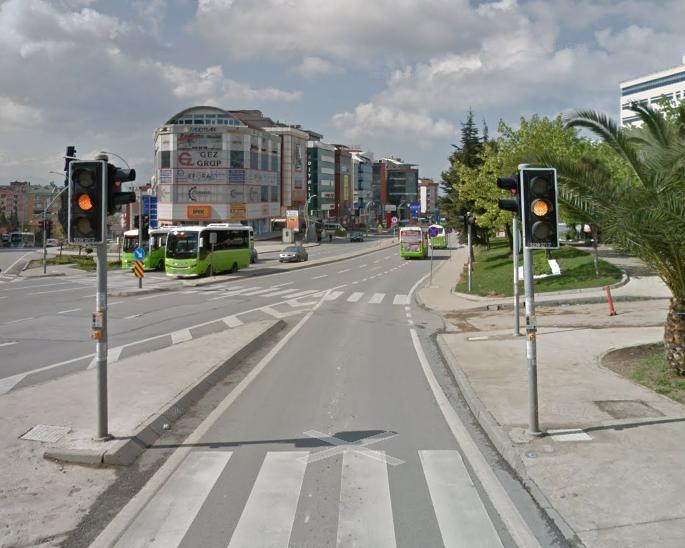yellowlight: (70, 162, 104, 239), (523, 168, 551, 241)
